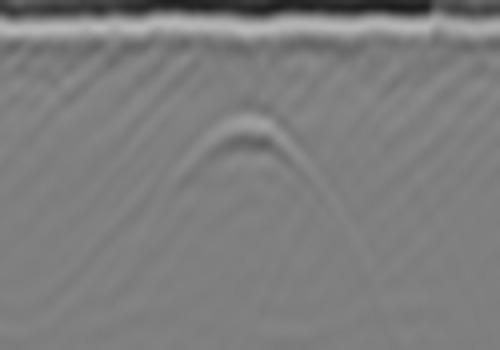hyperbola: (161, 108, 342, 231)
